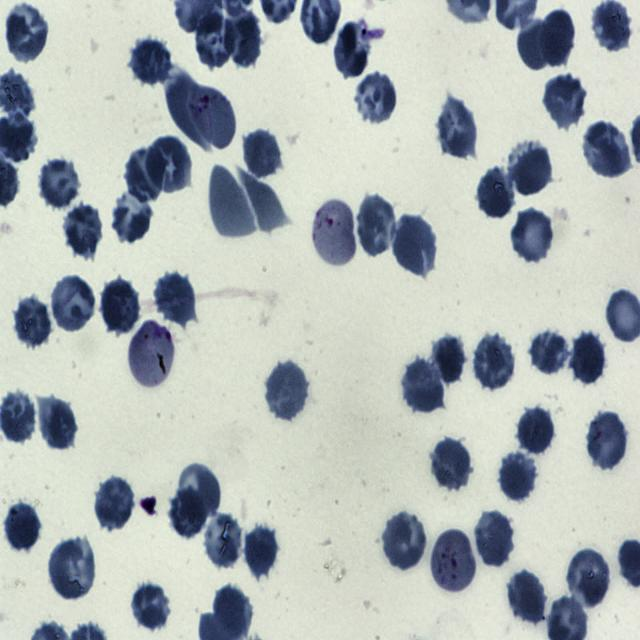red blood cell: (164, 63, 212, 152), (208, 164, 256, 242), (238, 165, 289, 233), (48, 538, 96, 601), (566, 547, 612, 608), (264, 361, 310, 420), (146, 134, 192, 192), (382, 511, 426, 571), (394, 214, 437, 275), (50, 275, 96, 332), (177, 464, 222, 522), (4, 4, 48, 63), (356, 194, 396, 258), (583, 122, 630, 176), (507, 142, 553, 196), (543, 72, 587, 128), (436, 99, 477, 159), (511, 207, 554, 264), (202, 512, 244, 570), (333, 20, 373, 80), (586, 412, 628, 469), (353, 72, 398, 125), (195, 12, 236, 70), (154, 271, 197, 325), (111, 190, 154, 243), (430, 438, 472, 492), (38, 154, 80, 208), (537, 8, 576, 66), (518, 18, 557, 76), (474, 334, 515, 389), (224, 11, 262, 70), (12, 294, 52, 350), (62, 202, 102, 258), (213, 583, 253, 639), (591, 0, 633, 53), (404, 360, 445, 414), (125, 149, 166, 203), (102, 278, 140, 334), (516, 404, 556, 457), (130, 37, 172, 87), (244, 522, 280, 580), (96, 477, 134, 531), (476, 512, 514, 566), (528, 330, 571, 377), (508, 570, 546, 623), (478, 164, 514, 219), (40, 396, 76, 450), (500, 451, 538, 502), (130, 584, 170, 632), (243, 129, 281, 179), (1, 390, 36, 444), (4, 501, 40, 553), (167, 491, 206, 539), (573, 332, 606, 386), (431, 336, 466, 386)
ring: (186, 82, 236, 153), (128, 320, 176, 390), (312, 197, 357, 269), (430, 528, 477, 594)
